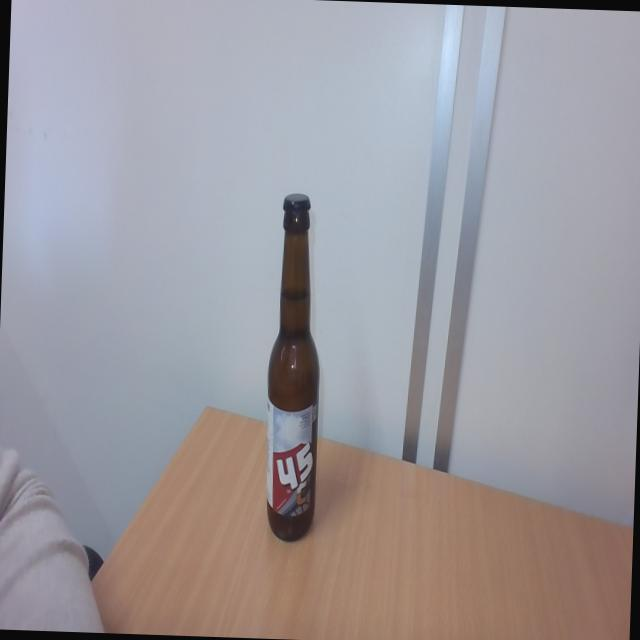Bottle: (261, 216, 325, 544)
Cap: (280, 190, 312, 222)
Label: (263, 402, 319, 518)
